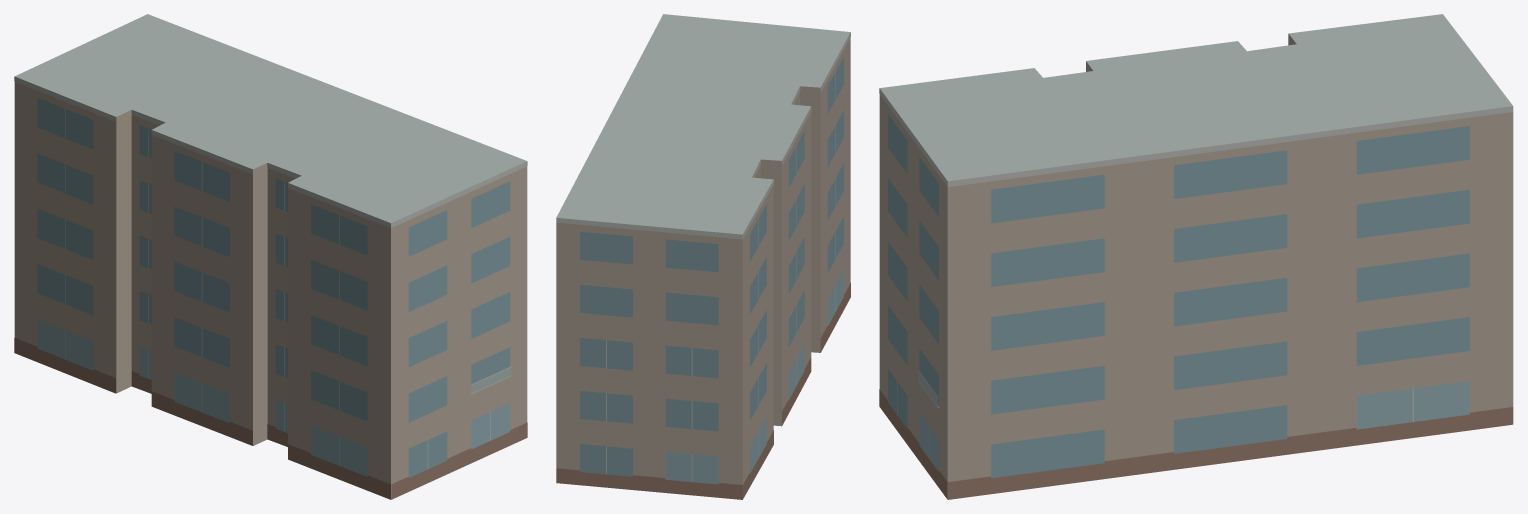
File: survey-upis-32610710.glb
The picture shows the model from 3 angles, left to right: view 1: azimuth 30°, elevation 25°; view 2: azimuth 150°, elevation 25°; view 3: azimuth 270°, elevation 25°; orthographic projection. The views are drawn at different scales.
Visible parts, largest first — view 1: survey-upis-32610710.tmp; view 2: survey-upis-32610710.tmp; view 3: survey-upis-32610710.tmp.
Part boxes in pixels (<box>): survey-upis-32610710.tmp: <box>14,14,527,499</box>; survey-upis-32610710.tmp: <box>556,14,850,499</box>; survey-upis-32610710.tmp: <box>879,14,1513,499</box>.
Bounding box in the file's own units: 15.05 × 13.35 × 24.08.
